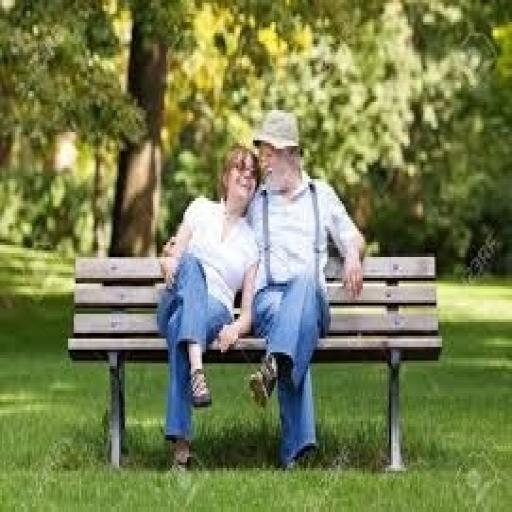sitting: (153, 104, 367, 474)
